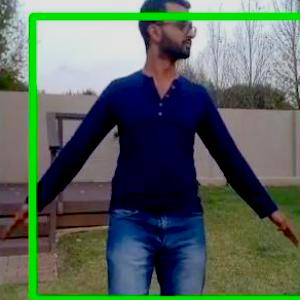land: (10, 1, 297, 299)
